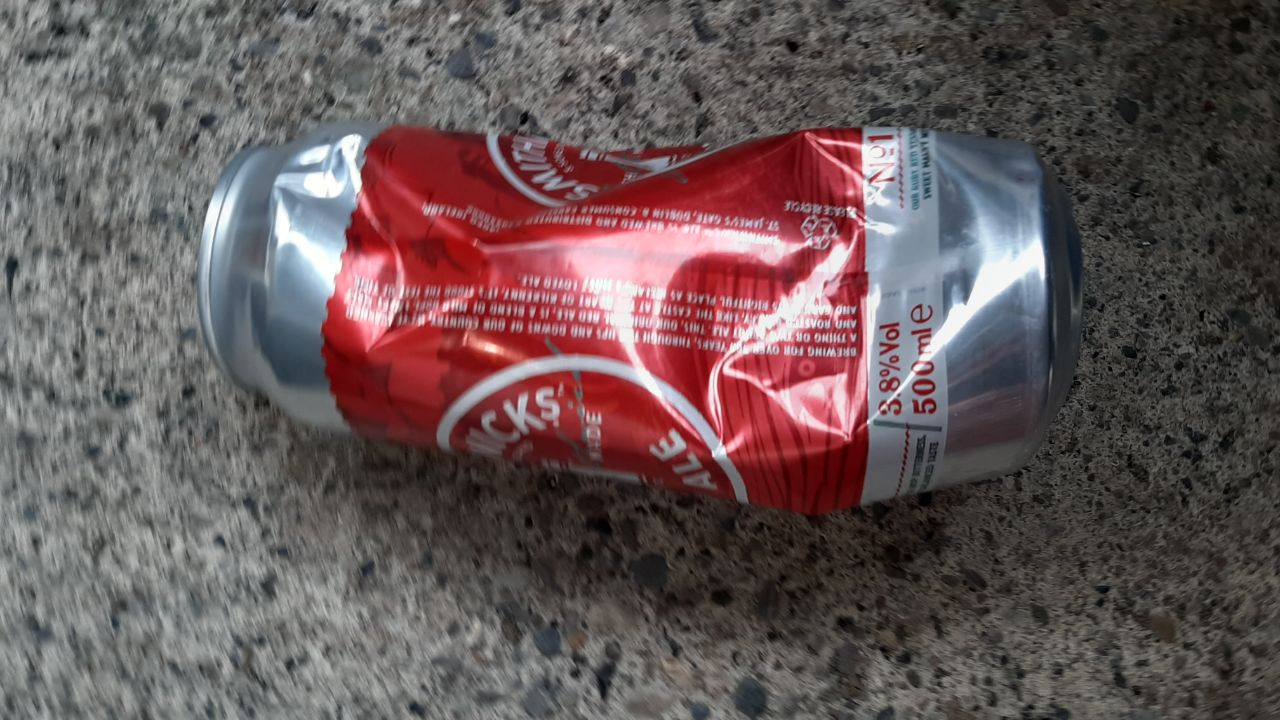Can: (191, 122, 1088, 519)
